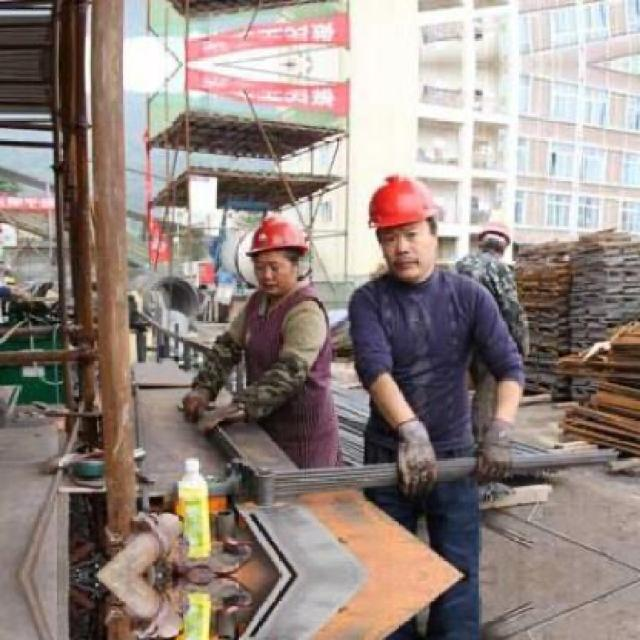con casco: (348, 135, 461, 318), (235, 208, 316, 286)
